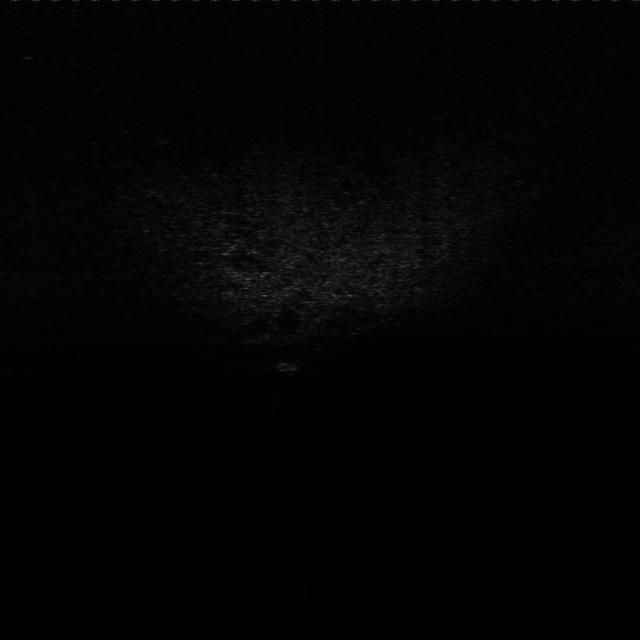cube: (274, 358, 304, 380)
